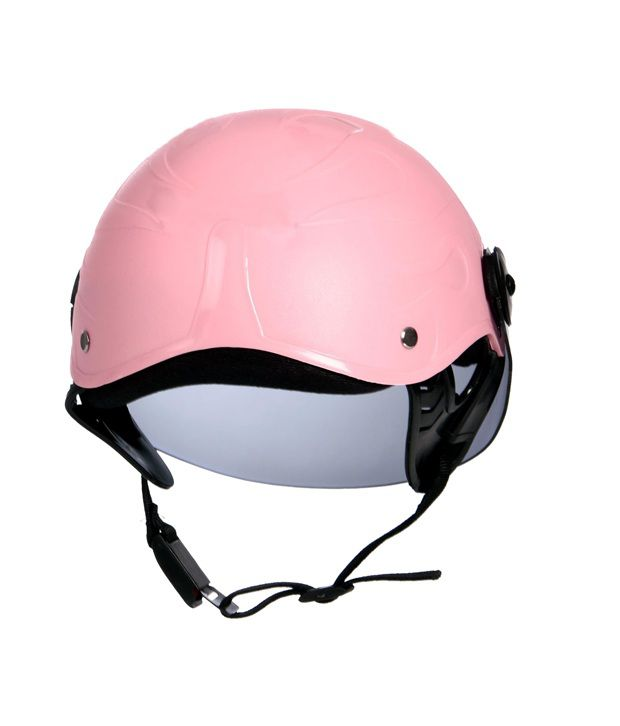with_helmet: (63, 97, 523, 498)
